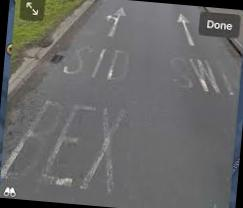faded_road_lines: (0, 93, 135, 196), (38, 36, 158, 96), (163, 52, 243, 104), (96, 4, 137, 42), (171, 11, 203, 52)
